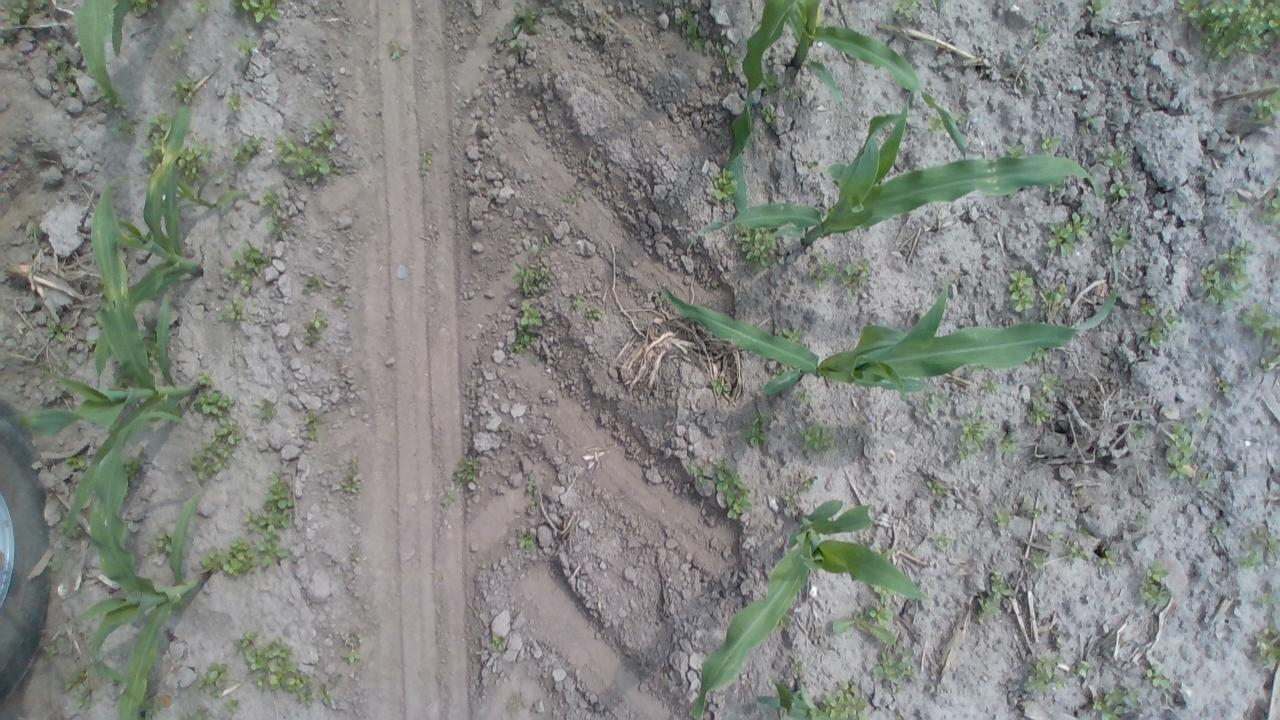Maize: (682, 89, 1118, 262), (14, 172, 202, 556), (656, 253, 1122, 402), (694, 497, 935, 720), (72, 409, 210, 720), (726, 1, 970, 162), (93, 92, 210, 381), (76, 0, 135, 100), (758, 678, 822, 720)
Weeds: (234, 632, 326, 704), (1182, 0, 1278, 64), (274, 118, 338, 184), (1197, 241, 1254, 311), (200, 536, 288, 578), (830, 586, 896, 642), (689, 461, 752, 519), (190, 416, 242, 483), (246, 471, 294, 535), (814, 256, 872, 300), (177, 140, 214, 200), (1044, 211, 1093, 256), (225, 241, 268, 292), (440, 455, 481, 506), (260, 192, 302, 240), (956, 407, 991, 462), (976, 568, 1010, 624), (1026, 649, 1068, 693), (1164, 422, 1194, 483), (1238, 528, 1280, 571), (1241, 303, 1280, 349), (823, 682, 871, 719), (140, 113, 170, 171), (1142, 306, 1184, 346), (193, 382, 237, 417), (1090, 686, 1136, 719), (510, 260, 552, 296), (3, 0, 46, 35), (734, 230, 774, 267), (64, 667, 96, 712), (1140, 562, 1170, 609), (874, 650, 913, 686), (1247, 83, 1280, 124), (1252, 620, 1280, 667), (784, 476, 822, 510), (1008, 268, 1036, 314), (798, 422, 838, 454), (228, 0, 283, 23), (1030, 374, 1057, 420), (675, 11, 705, 52), (50, 43, 76, 90), (510, 2, 543, 38), (230, 136, 264, 168), (711, 166, 739, 202), (198, 660, 232, 689), (169, 78, 200, 109), (1040, 284, 1068, 318), (571, 293, 606, 320), (744, 412, 770, 448), (518, 302, 546, 334), (304, 311, 328, 347), (1024, 548, 1052, 578), (46, 320, 74, 348), (1108, 224, 1134, 254), (1100, 144, 1130, 170), (95, 88, 126, 112), (994, 428, 1021, 455), (1258, 196, 1280, 228), (925, 480, 954, 504), (524, 474, 542, 512), (343, 632, 365, 663), (920, 389, 946, 415), (891, 0, 922, 21), (978, 377, 1006, 400), (774, 324, 804, 345), (301, 410, 320, 443), (222, 296, 246, 322), (170, 38, 193, 64), (418, 146, 435, 180), (254, 397, 277, 422), (108, 116, 134, 138), (1108, 180, 1134, 202), (1253, 591, 1280, 612), (1146, 667, 1170, 690), (124, 454, 146, 479), (720, 44, 739, 72), (510, 332, 532, 356), (154, 530, 176, 554), (300, 275, 325, 296), (329, 281, 346, 311), (236, 33, 258, 56), (761, 70, 782, 94), (495, 26, 517, 48), (144, 336, 160, 366), (58, 522, 80, 543), (1066, 540, 1088, 561), (1259, 349, 1280, 371), (340, 470, 359, 494), (1040, 133, 1064, 152), (488, 630, 505, 656), (992, 507, 1013, 528), (1082, 107, 1100, 131), (64, 452, 88, 470), (1139, 298, 1160, 318), (192, 0, 220, 15), (1041, 528, 1062, 548), (1195, 404, 1217, 423), (1088, 0, 1110, 19), (1194, 470, 1216, 489), (759, 104, 778, 126), (1023, 505, 1045, 524), (178, 708, 212, 720), (131, 0, 160, 14), (1128, 516, 1153, 532), (1028, 347, 1048, 367), (1213, 374, 1231, 396), (1042, 178, 1066, 194), (518, 530, 537, 550), (1033, 27, 1051, 48), (931, 531, 952, 549), (1132, 424, 1150, 443), (1074, 658, 1093, 676), (225, 90, 242, 110), (1100, 547, 1117, 567), (876, 546, 894, 564), (390, 42, 408, 60), (711, 380, 731, 396), (222, 697, 242, 713), (1212, 520, 1233, 535), (1228, 194, 1244, 211), (784, 87, 804, 100), (1006, 145, 1024, 158), (1069, 484, 1088, 496), (796, 390, 811, 405), (563, 192, 580, 205), (530, 244, 540, 255), (530, 356, 540, 365)
